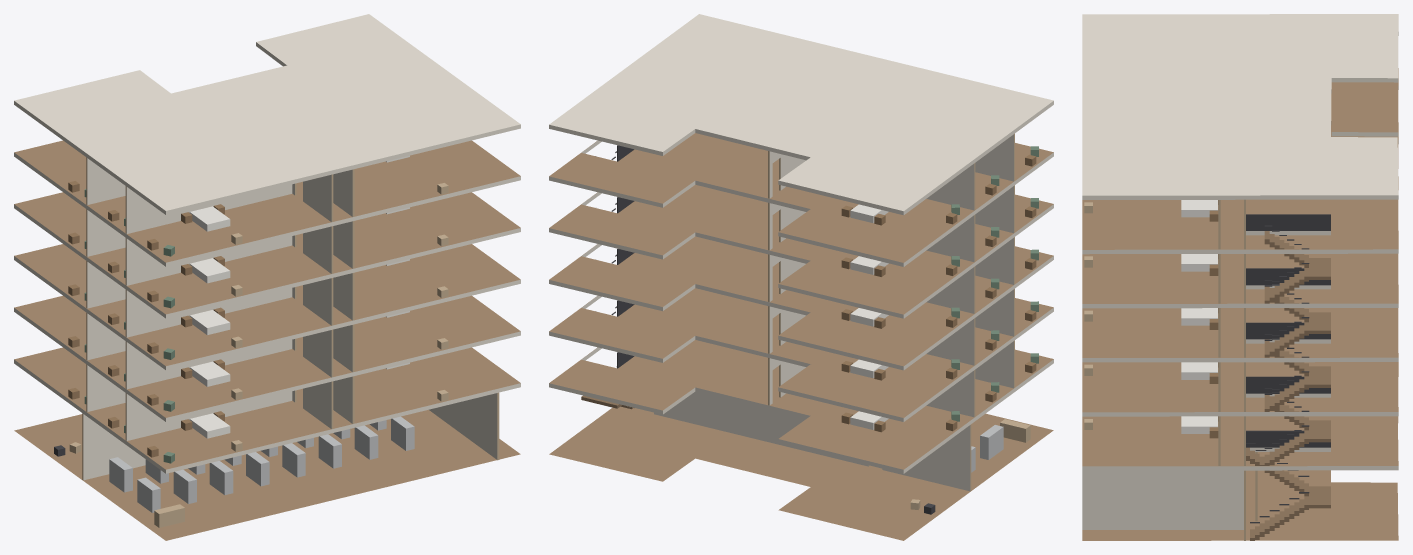
Rendered from interior.glb.
3 renders of one model, left to right at view 1: azimuth 30°, elevation 25°; view 2: azimuth 150°, elevation 25°; view 3: azimuth 270°, elevation 25°, orthographic. The views are drawn at different scales.
Visible parts, largest first — view 1: slabs, partitions, coarse-s0, coarse-s2, coarse-s3, coarse-s1, coarse-s4, coarse-s5; view 2: slabs, partitions, coarse-s0, coarse-s3, coarse-s5, coarse-s2, coarse-s1, coarse-s4, stair; view 3: slabs, stair, partitions, coarse-s2, coarse-s1, coarse-s3, coarse-s4, coarse-s5.
Boxes of the visible parts, box(x1,y1,x2,y2) form: slabs: box(14, 14, 520, 540); partitions: box(82, 157, 499, 480); coarse-s0: box(54, 416, 414, 527); coarse-s2: box(68, 311, 448, 411); coarse-s3: box(68, 259, 448, 359); coarse-s1: box(68, 362, 448, 463); coarse-s4: box(68, 207, 448, 308); coarse-s5: box(68, 155, 448, 256); slabs: box(549, 14, 1053, 540); partitions: box(654, 133, 1014, 491); coarse-s0: box(910, 419, 1030, 514); coarse-s3: box(841, 249, 1038, 328); coarse-s5: box(841, 146, 1038, 225); coarse-s2: box(841, 301, 1038, 380); coarse-s1: box(841, 353, 1038, 432); coarse-s4: box(841, 198, 1038, 276); stair: box(581, 145, 634, 409); slabs: box(1082, 14, 1398, 540); stair: box(1246, 214, 1330, 540); partitions: box(1082, 199, 1257, 540); coarse-s2: box(1084, 362, 1218, 383); coarse-s1: box(1084, 416, 1218, 438); coarse-s3: box(1084, 308, 1218, 329); coarse-s4: box(1084, 254, 1218, 275); coarse-s5: box(1084, 200, 1218, 221).
Bounding box in the file's own units: 23.56 × 20.89 × 17.32.
